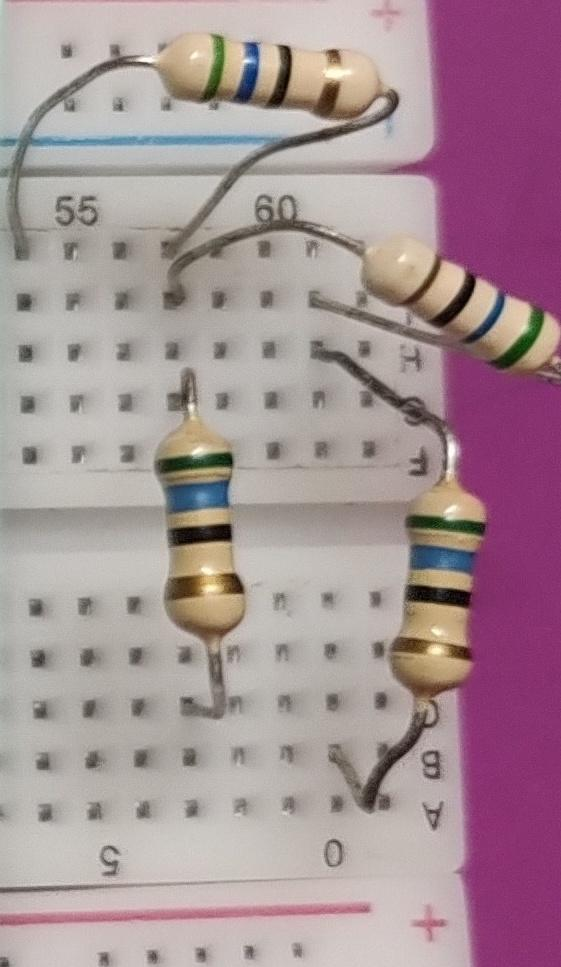resistor: (343, 219, 561, 399), (137, 417, 278, 659), (135, 4, 398, 127), (389, 479, 487, 706)
